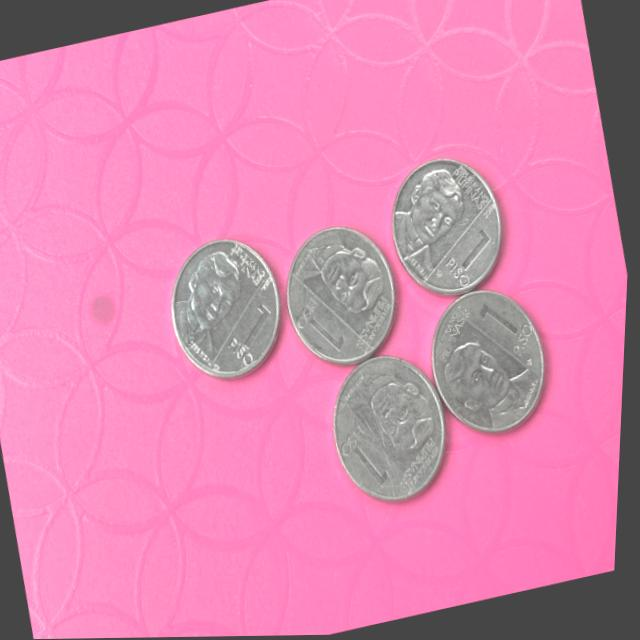1_New_Front: (215, 301, 289, 375), (333, 411, 398, 494), (437, 218, 510, 290), (470, 297, 539, 369), (293, 289, 355, 356)
